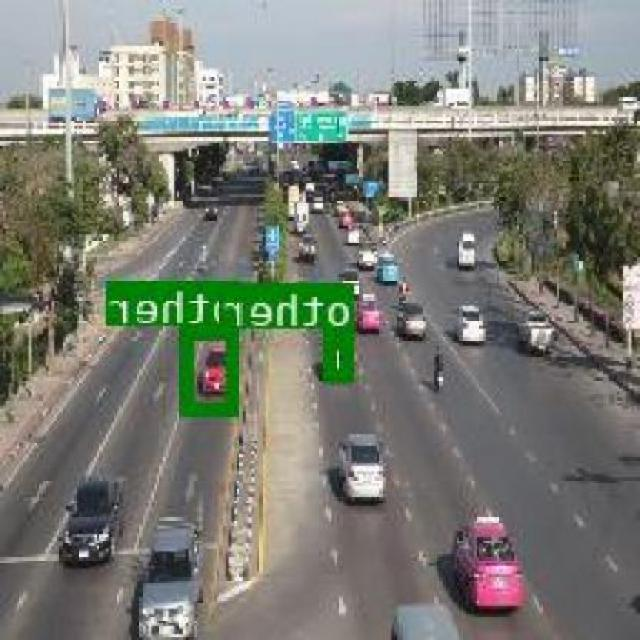other: (186, 325, 240, 413), (327, 326, 355, 379)
